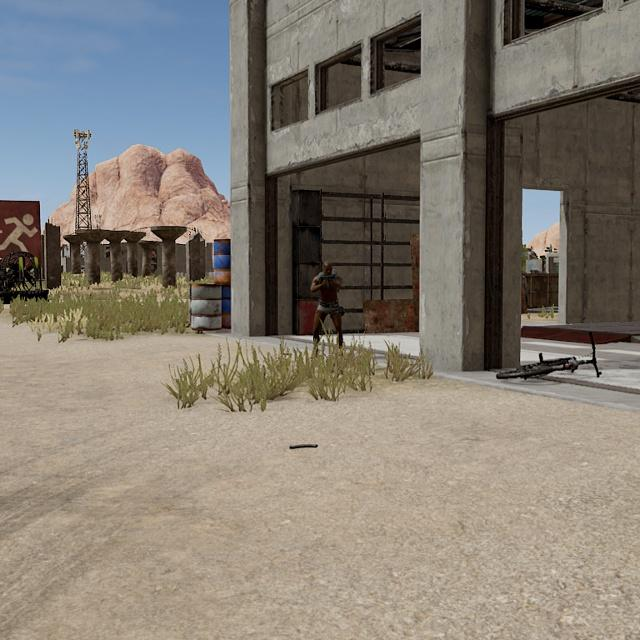head: (322, 260, 334, 275)
people: (309, 260, 346, 359)
